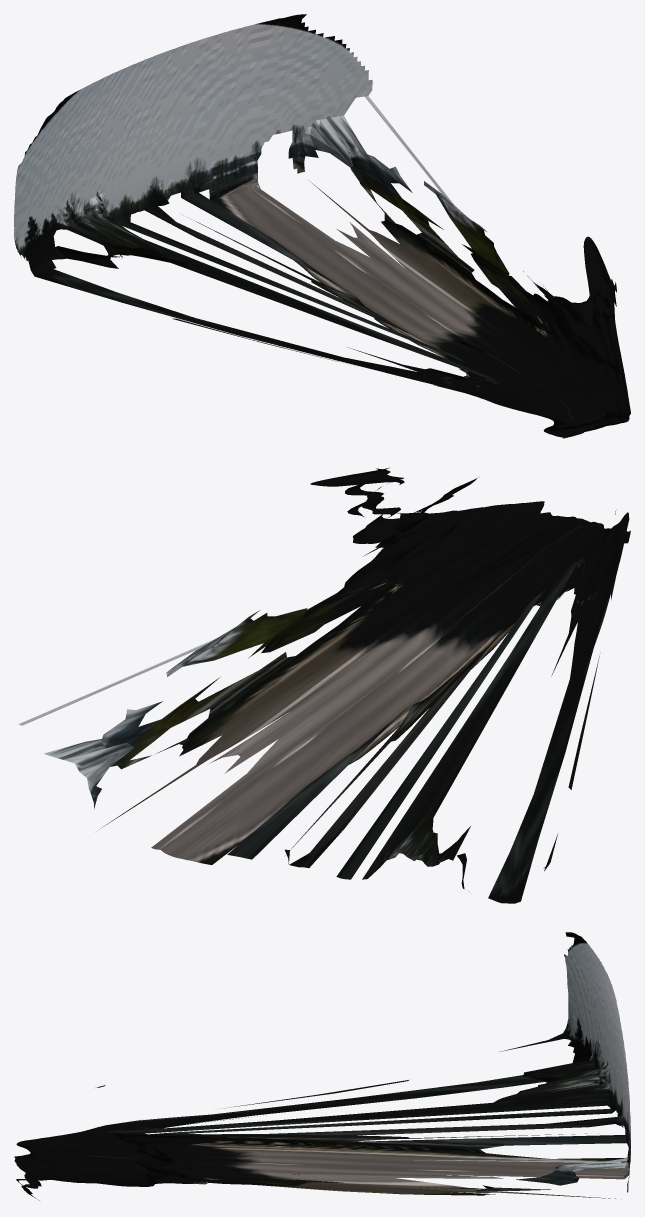
3 views of the same model, one above another, from view 1: azimuth 30°, elevation 25°; view 2: azimuth 150°, elevation 25°; view 3: azimuth 270°, elevation 25° (orthographic). The views are drawn at different scales.
Visible parts, largest first — view 1: defaultobject; view 2: defaultobject; view 3: defaultobject.
Boxes of the visible parts, x1=… form: defaultobject: x1=14, y1=14, x2=630, y2=438; defaultobject: x1=18, y1=467, x2=630, y2=903; defaultobject: x1=14, y1=932, x2=630, y2=1200.
Bounding box in the file's own units: 28.84 × 12.39 × 44.2.
1 material, 1 textured.
